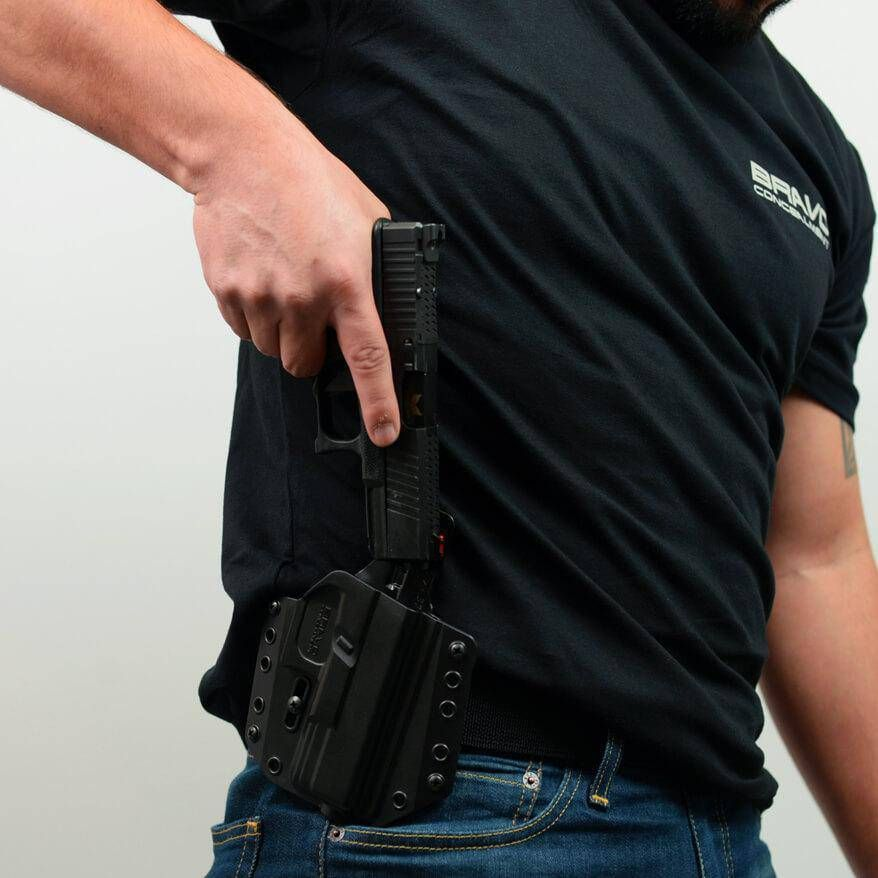gun: (279, 216, 482, 574)
